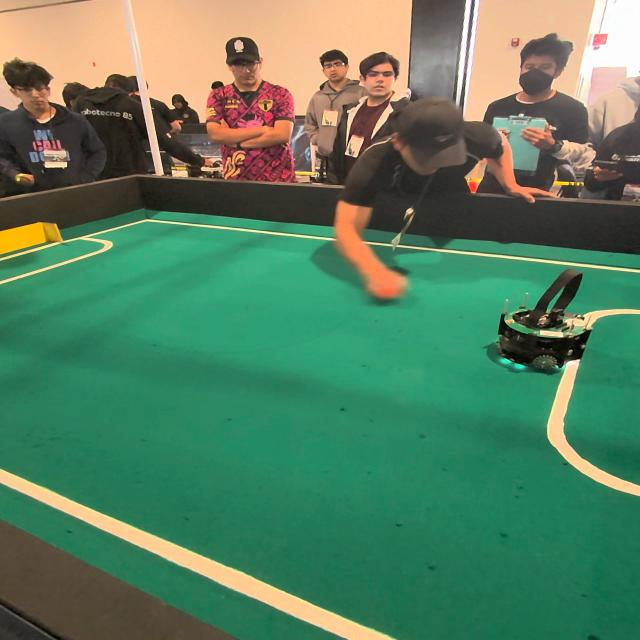Robot: (489, 266, 600, 383)
